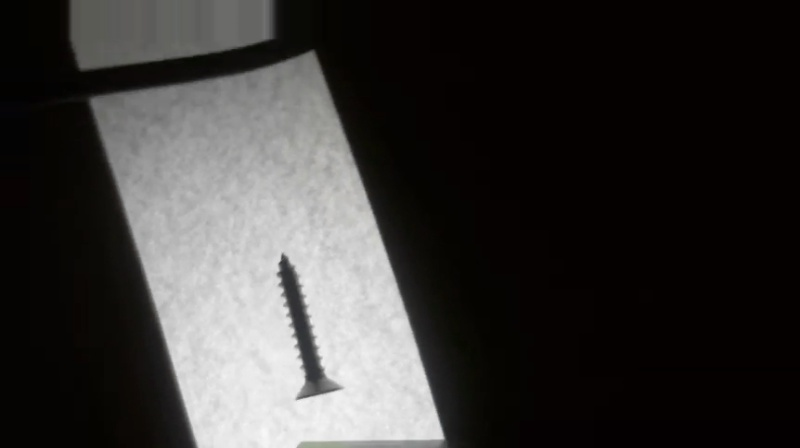S001: (272, 250, 346, 404)
